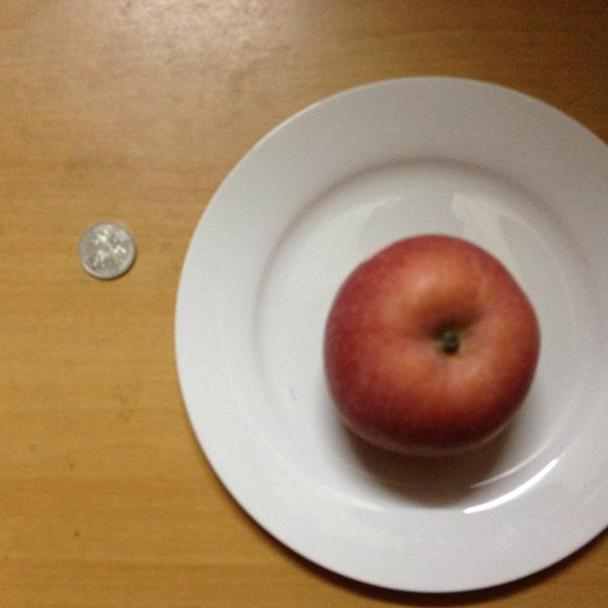apple: (322, 236, 551, 458)
